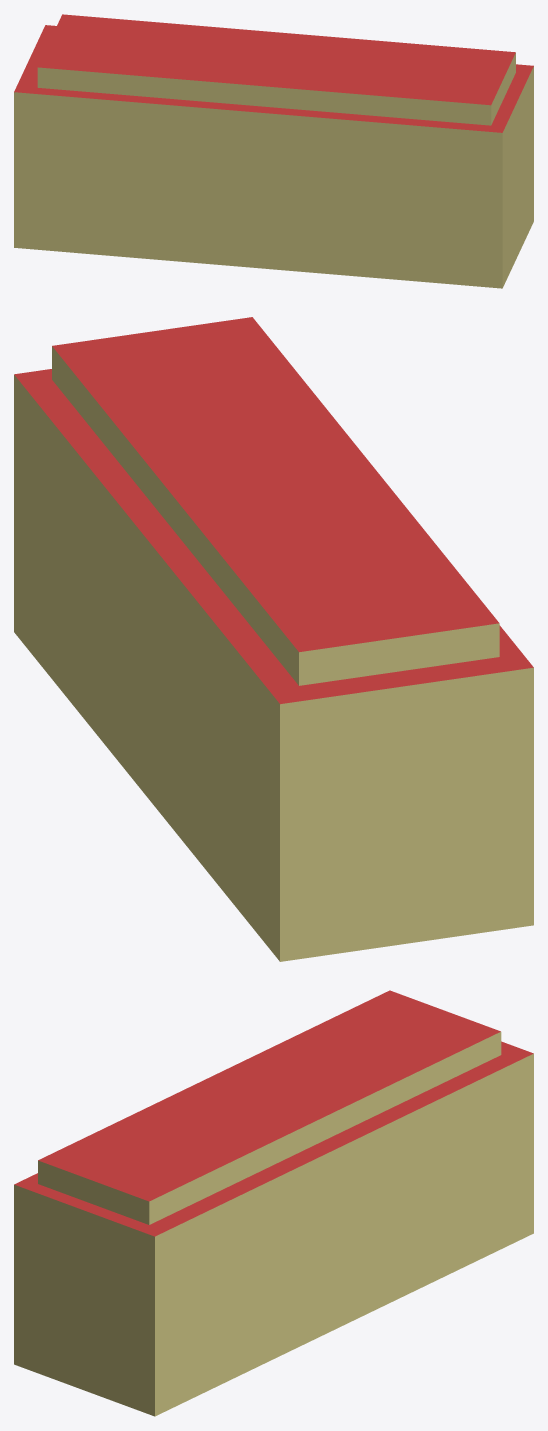
The picture shows the model from 3 angles, top to bottom: view 1: azimuth 30°, elevation 25°; view 2: azimuth 150°, elevation 25°; view 3: azimuth 270°, elevation 25°; orthographic projection. The views are drawn at different scales.
Parts seen in each view (by area): view 1: group_6, group_4, group_5, group_3; view 2: group_6, group_4, group_5, group_3; view 3: group_6, group_4, group_5, group_3.
Part boxes in pixels (bbox=[...]): group_6: bbox=[14, 66, 533, 288]; group_4: bbox=[38, 14, 515, 105]; group_5: bbox=[37, 53, 515, 125]; group_3: bbox=[14, 25, 533, 132]; group_6: bbox=[14, 375, 533, 961]; group_4: bbox=[52, 317, 498, 652]; group_5: bbox=[52, 346, 499, 685]; group_3: bbox=[14, 369, 533, 704]; group_6: bbox=[14, 1053, 533, 1416]; group_4: bbox=[38, 990, 500, 1201]; group_5: bbox=[38, 1032, 501, 1224]; group_3: bbox=[14, 1041, 533, 1236].
Bounding box in the file's own units: 37.74 × 35.26 × 15.22.
